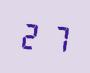seven: (44, 20, 68, 54)
two: (19, 17, 43, 52)
